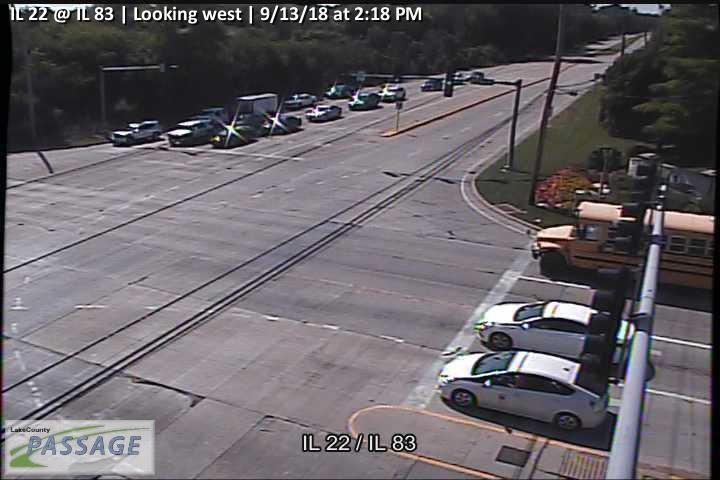Bus: (529, 200, 717, 290)
SUV: (111, 120, 162, 145), (166, 119, 215, 145), (379, 85, 405, 102), (420, 78, 443, 90)
Sedan: (437, 351, 610, 431), (478, 300, 635, 364), (211, 125, 257, 147), (260, 115, 302, 135), (305, 104, 343, 121), (348, 92, 381, 110), (284, 93, 317, 108)
Truck: (197, 92, 278, 126)
